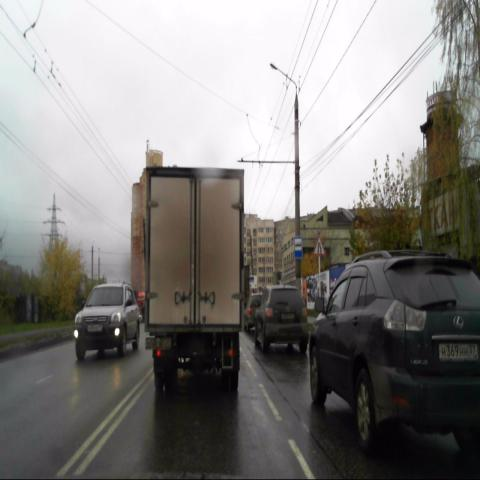1_20_2: (312, 234, 326, 257)
